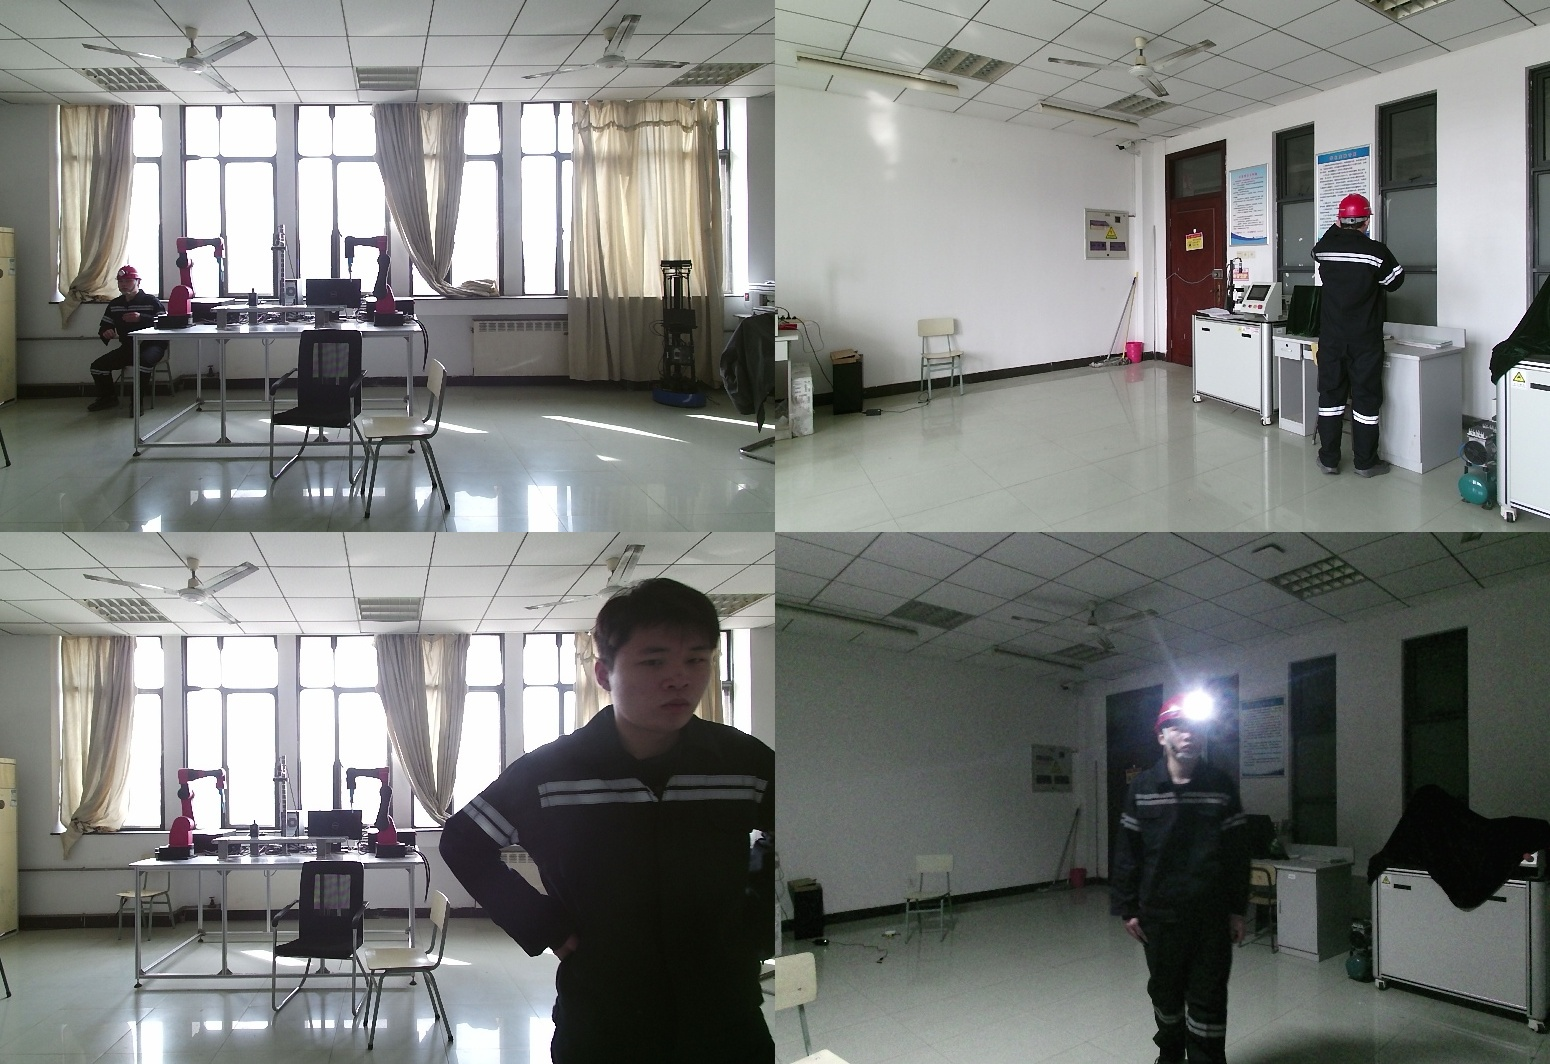person: (442, 581, 775, 1064), (1113, 695, 1259, 1064), (1307, 193, 1426, 474), (82, 265, 179, 413)
